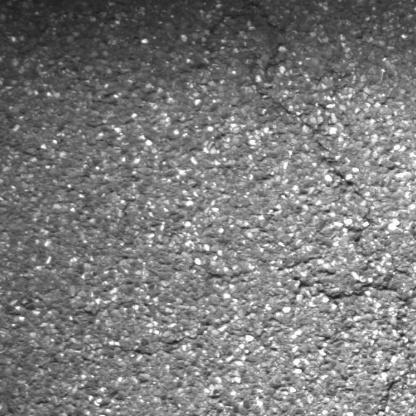Cracks: (251, 7, 379, 224)
